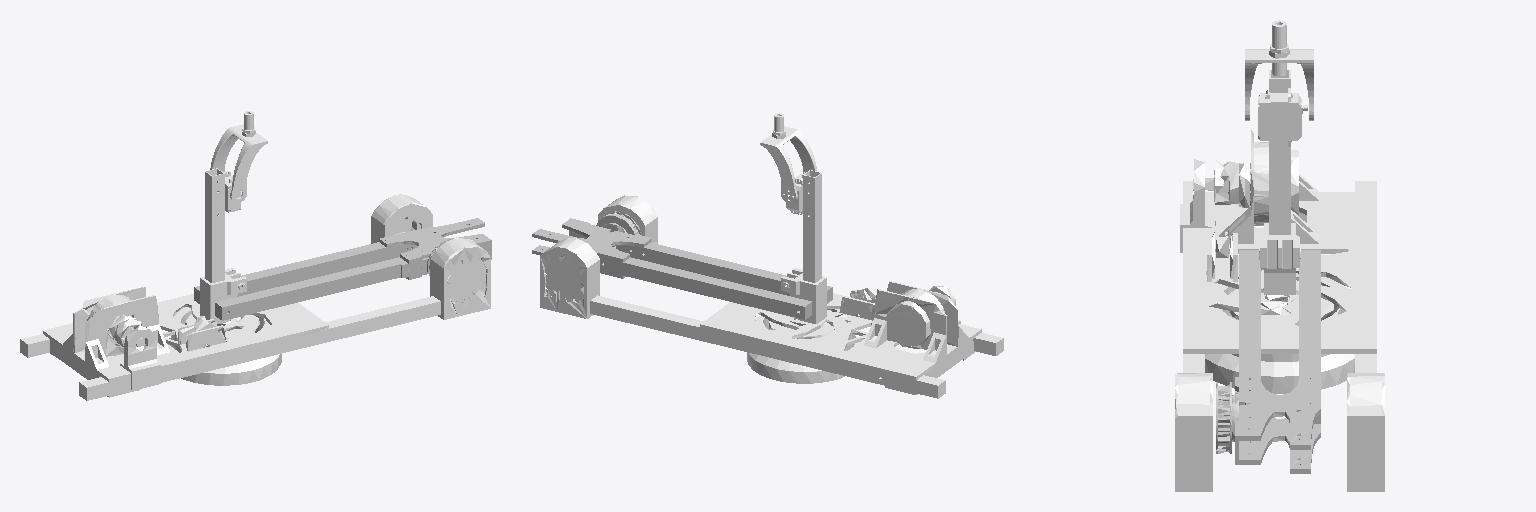
robot.urdf — armarm:
<?xml version="1.0" encoding="utf-8"?>
<!-- This URDF was automatically created by SolidWorks to URDF Exporter! Originally created by Stephen Brawner (brawner@gmail.com) 
     Commit Version: 1.6.0-4-g7f85cfe  Build Version: 1.6.7995.38578
     For more information, please see http://wiki.ros.org/sw_urdf_exporter -->
<robot
  name="armarm">
  <link
    name="base_link">
    <inertial>
      <origin
        xyz="-0.016869872878182 -7.25086812364342E-05 -0.0191399749243649"
        rpy="0 0 0" />
      <mass
        value="1.51115460246734" />
      <inertia
        ixx="0.00512915549939724"
        ixy="1.34002461176202E-05"
        ixz="-1.58055112793233E-12"
        iyy="0.00871416793501376"
        iyz="1.253820195276E-11"
        izz="0.0138379553843523" />
    </inertial>
    <visual>
      <origin
        xyz="0 0 0"
        rpy="0 0 0" />
      <geometry>
        <mesh
          filename="package://arm/model/base_link.STL" />
      </geometry>
      <material
        name="">
        <color
          rgba="0.250980392156863 0.250980392156863 0.250980392156863 1" />
      </material>
    </visual>
    <collision>
      <origin
        xyz="0 0 0"
        rpy="0 0 0" />
      <geometry>
        <mesh
          filename="package://arm/model/base_link.STL" />
      </geometry>
    </collision>
  </link>
  <link
    name="link1">
    <inertial>
      <origin
        xyz="0.035083033674117 -0.00415934285750682 0.00218726342128653"
        rpy="0 0 0" />
      <mass
        value="2.52839234415653" />
      <inertia
        ixx="0.0034868807361204"
        ixy="-9.28341215280675E-06"
        ixz="-1.51421027245029E-06"
        iyy="0.0206826977793449"
        iyz="-2.49745487927448E-06"
        izz="0.0227755526534273" />
    </inertial>
    <visual>
      <origin
        xyz="0 0 0"
        rpy="0 0 0" />
      <geometry>
        <mesh
          filename="package://arm/model/link1.STL" />
      </geometry>
      <material
        name="">
        <color
          rgba="1 1 1 1" />
      </material>
    </visual>
    <collision>
      <origin
        xyz="0 0 0"
        rpy="0 0 0" />
      <geometry>
        <mesh
          filename="package://arm/model/link1.STL" />
      </geometry>
    </collision>
  </link>
  <joint
    name="joint1"
    type="continuous">
    <origin
      xyz="-3.2465E-05 1.0134E-05 0.066"
      rpy="0 0 0" />
    <parent
      link="base_link" />
    <child
      link="link1" />
    <axis
      xyz="0 0 1" />
  </joint>
  <link
    name="link2">
    <inertial>
      <origin
        xyz="0.112512639803757 0.00273212691579126 -0.0355363965584416"
        rpy="0 0 0" />
      <mass
        value="0.425516880933423" />
      <inertia
        ixx="9.08717563449305E-05"
        ixy="-9.15390847597292E-12"
        ixz="-1.39115683387731E-06"
        iyy="0.0027657225969899"
        iyz="-1.14090954983423E-11"
        izz="0.00272709297268402" />
    </inertial>
    <visual>
      <origin
        xyz="0 0 0"
        rpy="0 0 0" />
      <geometry>
        <mesh
          filename="package://arm/model/link2.STL" />
      </geometry>
      <material
        name="">
        <color
          rgba="0.847058823529412 0.847058823529412 0.847058823529412 1" />
      </material>
    </visual>
    <collision>
      <origin
        xyz="0 0 0"
        rpy="0 0 0" />
      <geometry>
        <mesh
          filename="package://arm/model/link2.STL" />
      </geometry>
    </collision>
  </link>
  <joint
    name="joint2"
    type="revolute">
    <origin
      xyz="0.32753 -0.04351 0.0325"
      rpy="1.5708 3.1416 0" />
    <parent
      link="link1" />
    <child
      link="link2" />
    <axis
      xyz="0 0 -1" />
    <limit
      lower="-3.14159"
      upper="3.14159"
      effort="0"
      velocity="0" />
  </joint>
  <link
    name="link3">
    <inertial>
      <origin
        xyz="0.0651512472133347 -0.00931897166971897 -0.000171100160753751"
        rpy="0 0 0" />
      <mass
        value="0.122270691158031" />
      <inertia
        ixx="2.91569573749936E-05"
        ixy="5.76405724844773E-06"
        ixz="-1.69858636443256E-07"
        iyy="0.000133645083707022"
        iyz="1.33491397958492E-07"
        izz="0.000136289156439715" />
    </inertial>
    <visual>
      <origin
        xyz="0 0 0"
        rpy="0 0 0" />
      <geometry>
        <mesh
          filename="package://arm/model/link3.STL" />
      </geometry>
      <material
        name="">
        <color
          rgba="1 1 1 1" />
      </material>
    </visual>
    <collision>
      <origin
        xyz="0 0 0"
        rpy="0 0 0" />
      <geometry>
        <mesh
          filename="package://arm/model/link3.STL" />
      </geometry>
    </collision>
  </link>
  <joint
    name="joint3"
    type="revolute">
    <origin
      xyz="0.34 0 -0.0435"
      rpy="0 0 -1.5708" />
    <parent
      link="link2" />
    <child
      link="link3" />
    <axis
      xyz="0 0 1" />
    <limit
      lower="-3.14159"
      upper="3.14159"
      effort="0"
      velocity="0" />
  </joint>
  <link
    name="link4">
    <inertial>
      <origin
        xyz="-0.0180143425602793 -0.0494695111798099 0.0239052844480039"
        rpy="0 0 0" />
      <mass
        value="0.0478316913769084" />
      <inertia
        ixx="4.97476467538955E-05"
        ixy="-9.57855804930017E-06"
        ixz="2.49424727468677E-07"
        iyy="3.49339849733935E-05"
        iyz="7.34300502151482E-07"
        izz="2.91036780131539E-05" />
    </inertial>
    <visual>
      <origin
        xyz="0 0 0"
        rpy="0 0 0" />
      <geometry>
        <mesh
          filename="package://arm/model/link4.STL" />
      </geometry>
      <material
        name="">
        <color
          rgba="1 1 1 1" />
      </material>
    </visual>
    <collision>
      <origin
        xyz="0 0 0"
        rpy="0 0 0" />
      <geometry>
        <mesh
          filename="package://arm/model/link4.STL" />
      </geometry>
    </collision>
  </link>
  <joint
    name="joint4"
    type="revolute">
    <origin
      xyz="0.17 -0.020156 -0.02375"
      rpy="0 0 1.5708" />
    <parent
      link="link3" />
    <child
      link="link4" />
    <axis
      xyz="0 0 -1" />
    <limit
      lower="-3.14159"
      upper="3.14159"
      effort="0"
      velocity="0" />
  </joint>
  <link
    name="link5">
    <inertial>
      <origin
        xyz="-0.713238262090564 -0.00159805879902436 -0.0566453676338307"
        rpy="0 0 0" />
      <mass
        value="6.72485772348953" />
      <inertia
        ixx="0.0495961217544726"
        ixy="0.0019300946304443"
        ixz="0.0238489495738574"
        iyy="0.365339449397009"
        iyz="0.00272700919493718"
        izz="0.379507093139552" />
    </inertial>
    <visual>
      <origin
        xyz="0 0 0"
        rpy="0 0 0" />
      <geometry>
        <box size="0.001 0.001 0.001"/>
      </geometry>
      <material
        name="">
        <color
          rgba="1 1 1 1" />
      </material>
    </visual>
    <collision>
      <origin
        xyz="0 0 0"
        rpy="0 0 0" />
      <geometry>
        <box size="0.001 0.001 0.001"/>
      </geometry>
    </collision>
  </link>
  <joint
  
    name="joint5"
    type="fixed">
    <origin
      xyz="-0.033 -0.0904 0.02425"
      rpy="-1.5708 0 3.14159" />
    <parent
      link="link4" />
    <child
      link="link5" />
    <axis
      xyz="0 0 0" />
  </joint>
</robot>

--- Facts derived from the render (not from the file) ---
Views: 3 orthographic renders of the robot side by side, from view 1: azimuth 30°, elevation 25°; view 2: azimuth 150°, elevation 25°; view 3: azimuth 270°, elevation 25°.
Robot: armarm — 6 links, 5 joints (3 revolute, 1 continuous, 1 fixed); root link base_link; default pose: all joints at 0.
Links seen in each view (by area): view 1: link1, link2, link3, link4; view 2: link1, link2, link3, link4; view 3: link1, link2, link3, link4.
Link boxes in pixels (box(x1,y1,x2,y2)): link1: box(20, 194, 490, 400); link2: box(194, 218, 491, 320); link3: box(200, 168, 246, 323); link4: box(210, 111, 267, 202); link1: box(540, 195, 1003, 398); link2: box(532, 211, 832, 319); link3: box(781, 170, 826, 323); link4: box(760, 113, 816, 203); link1: box(1175, 130, 1384, 491); link2: box(1216, 250, 1320, 473); link3: box(1258, 70, 1307, 294); link4: box(1245, 20, 1313, 120).
Size in the robot's own frame: 0.6825 by 0.196 by 0.3623 metres.
4 mesh visuals loaded from 5 distinct referenced files (4 binary STL); not drawn: 1 (reference not matched to a file when rendering).
